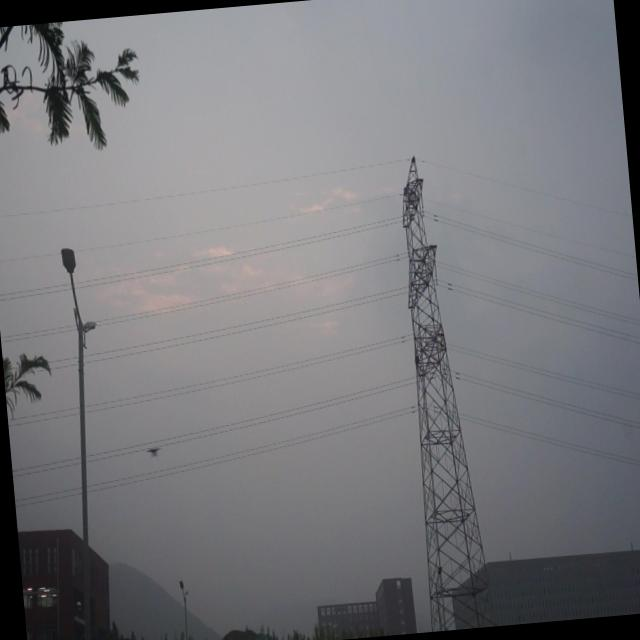drone: (144, 442, 163, 461)
